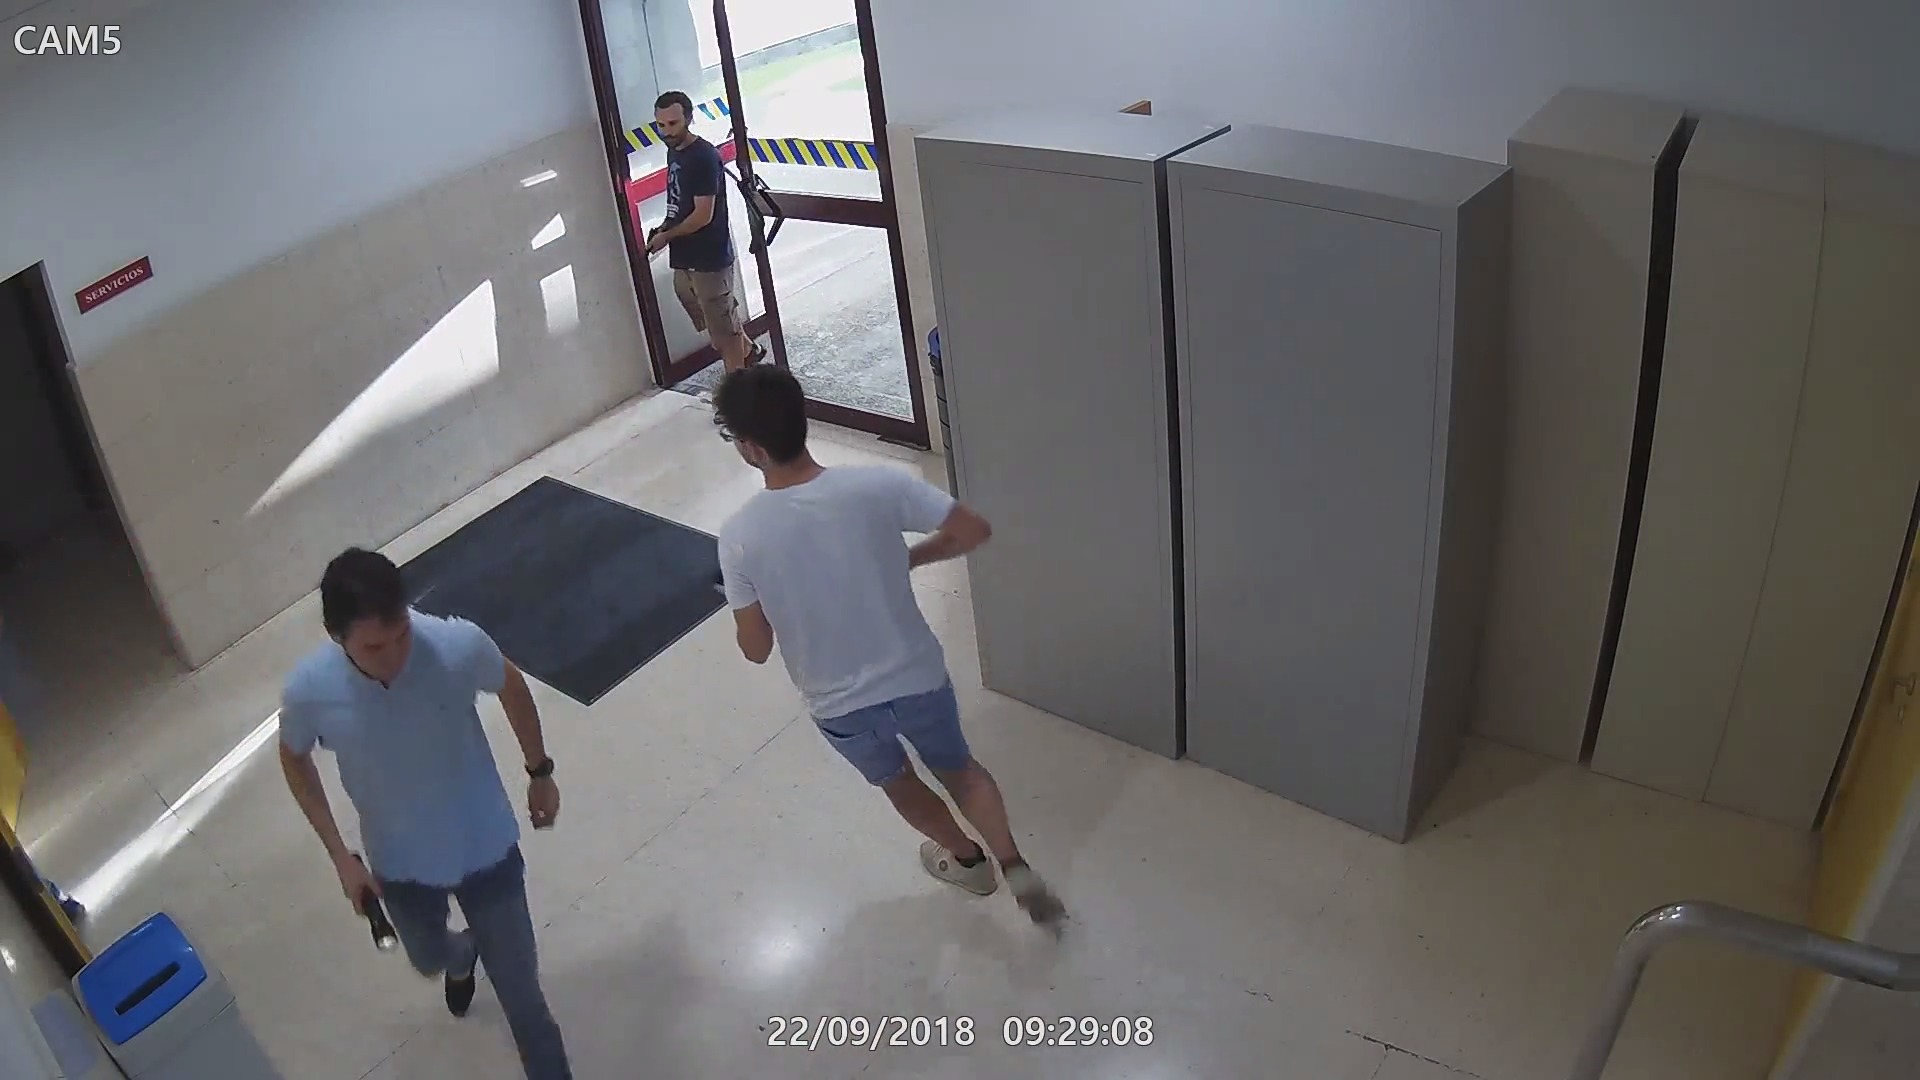Handgun: (641, 225, 670, 268)
